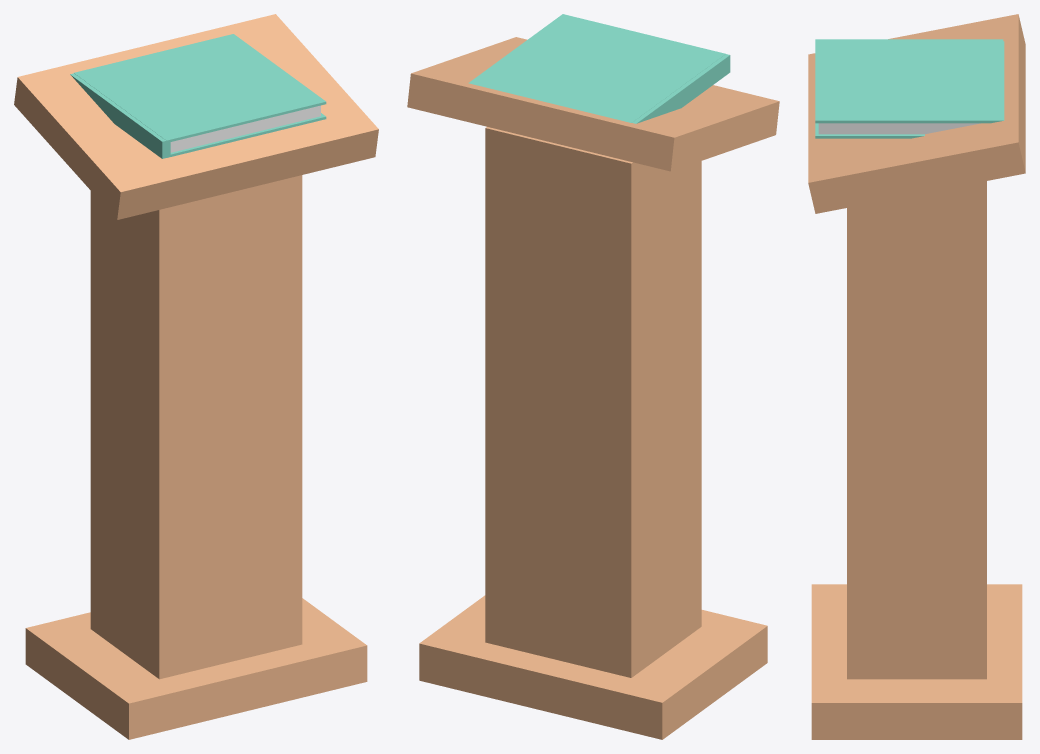
3 renders of one model, left to right at view 1: azimuth 30°, elevation 25°; view 2: azimuth 150°, elevation 25°; view 3: azimuth 270°, elevation 25°, orthographic. The views are drawn at different scales.
Visible parts, largest first — view 1: Body, Reading top, Foot, Cover.001, Spine, Pages, Cover; view 2: Body, Foot, Reading top, Cover.001, Spine; view 3: Body, Foot, Reading top, Cover.001, Pages, Cover, Spine.
Part boxes in pixels (left/top/right/bottom): Body: left=90, top=175, right=302, bottom=679; Reading top: left=14, top=14, right=378, bottom=219; Foot: left=25, top=598, right=367, bottom=739; Cover.001: left=74, top=34, right=326, bottom=142; Spine: left=70, top=73, right=170, bottom=158; Pages: left=170, top=105, right=320, bottom=152; Cover: left=166, top=113, right=326, bottom=157; Body: left=485, top=127, right=701, bottom=677; Foot: left=419, top=595, right=767, bottom=739; Reading top: left=407, top=37, right=779, bottom=171; Cover.001: left=468, top=14, right=725, bottom=122; Spine: left=632, top=54, right=730, bottom=123; Body: left=847, top=181, right=986, bottom=679; Foot: left=811, top=584, right=1022, bottom=739; Reading top: left=808, top=14, right=1025, bottom=213; Cover.001: left=815, top=41, right=1004, bottom=123; Pages: left=818, top=123, right=980, bottom=134; Cover: left=815, top=123, right=924, bottom=138; Spine: left=815, top=39, right=1003, bottom=41.
Size of the model in its own units: 52 by 114 by 37.24.
